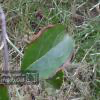Apple Scab Leaf: (19, 21, 79, 82)
